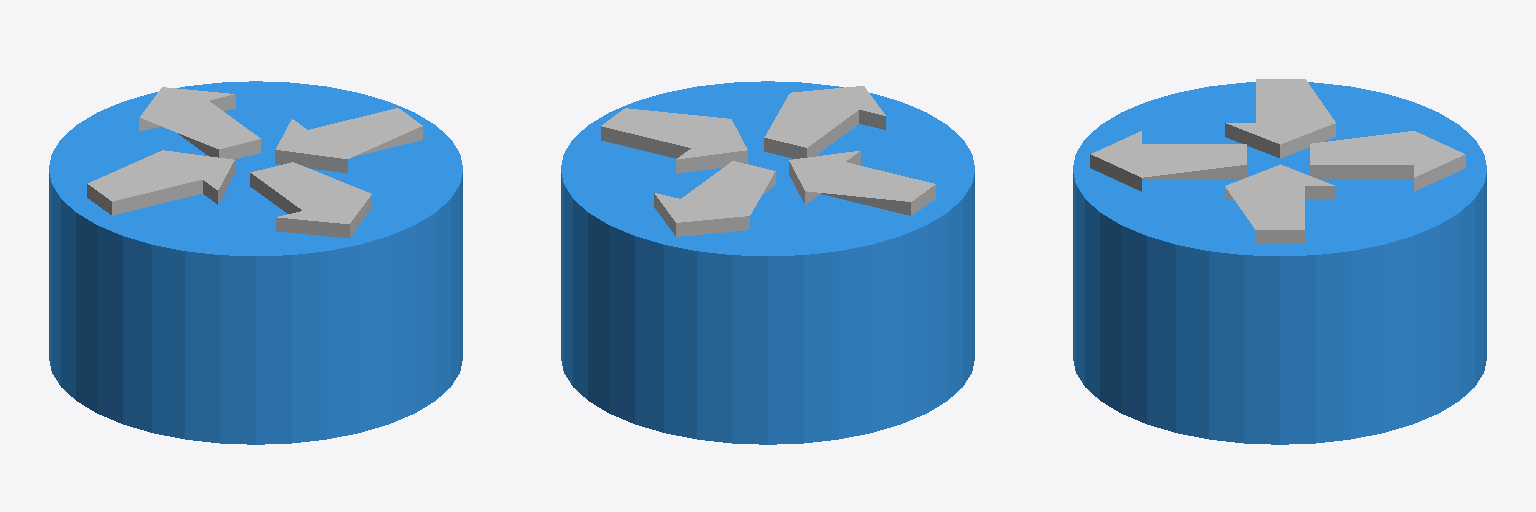
File: router.obj
3 views of the same model, side by side, from view 1: azimuth 30°, elevation 25°; view 2: azimuth 150°, elevation 25°; view 3: azimuth 270°, elevation 25° (orthographic).
Visible parts, largest first — view 1: 挤压; view 2: 挤压; view 3: 挤压.
Boxes of the visible parts, box(x1,y1,x2,y2) form: 挤压: box(49, 81, 462, 444); 挤压: box(561, 81, 974, 444); 挤压: box(1073, 79, 1486, 444).
Bounding box in the file's own units: 8.87 × 4.78 × 8.87.